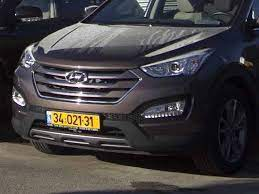licence: (44, 109, 102, 133)
